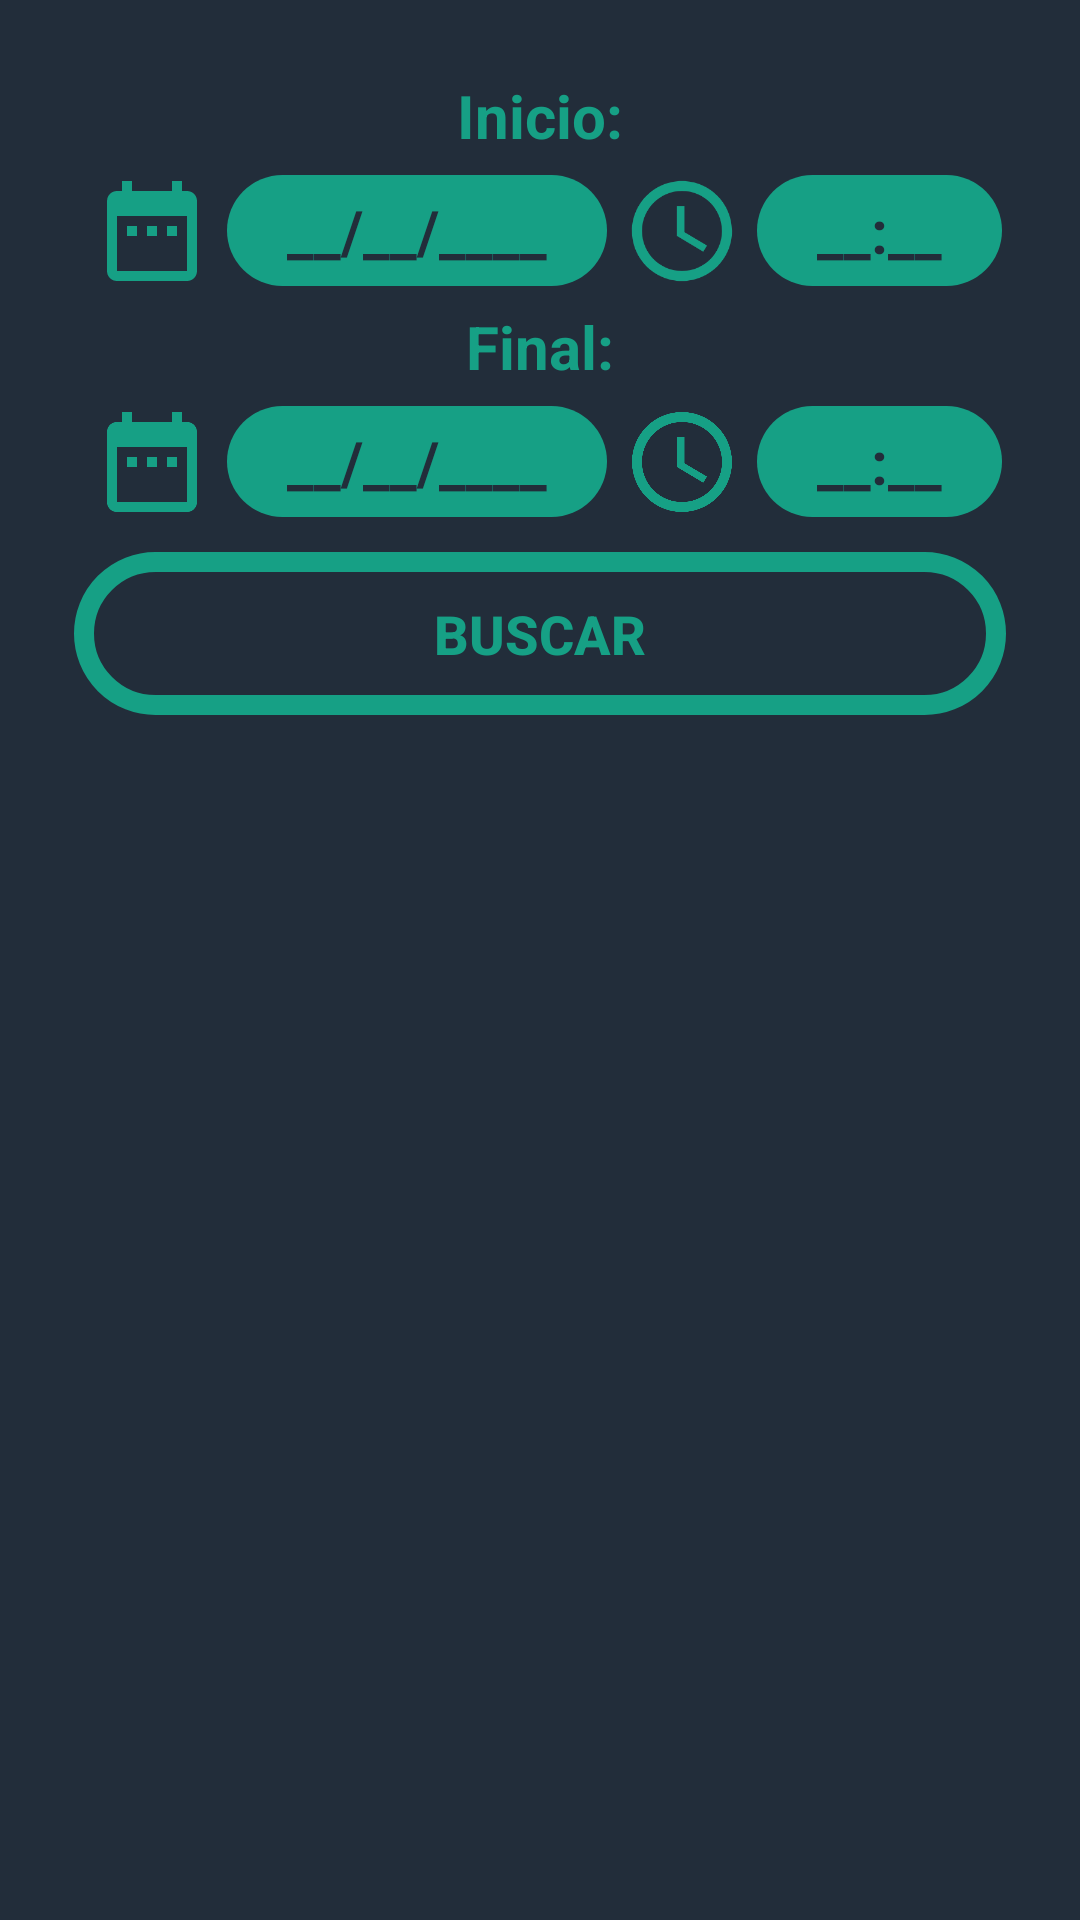

Screen size 1080px×1920px. Icon name, then its center in pixels as (x=x, y=y):
access time: (x=682, y=231), (x=682, y=462)
date range: (x=152, y=231), (x=152, y=462)
